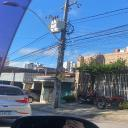NoEstacionar: (58, 66, 66, 74)
